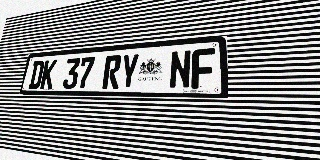3: (62, 58, 81, 89)
7: (76, 57, 95, 89)
D: (28, 60, 45, 89)
F: (191, 48, 215, 89)
K: (40, 59, 57, 89)
N: (169, 50, 192, 89)
R: (102, 55, 122, 89)
Y: (119, 53, 140, 89)
